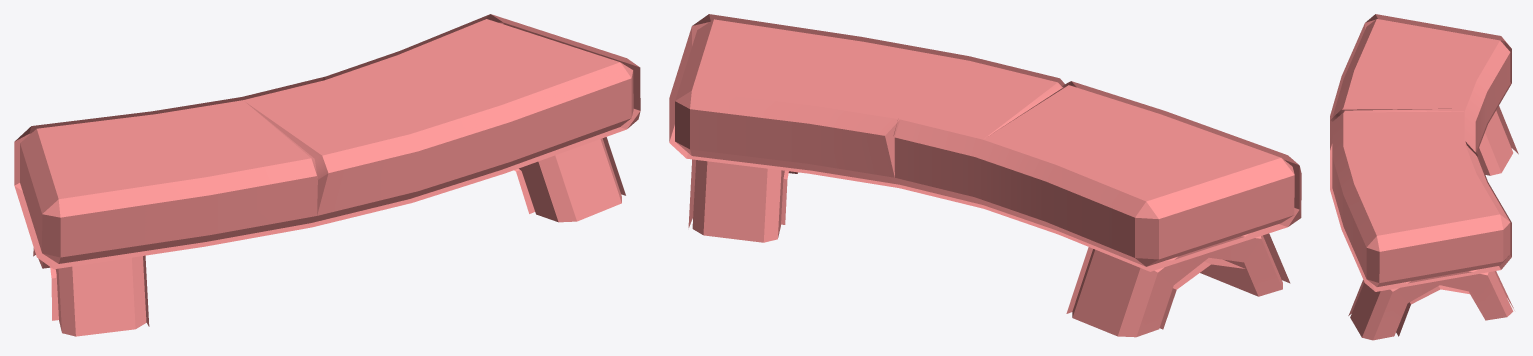
File: entity436898.gltf
3 views of the same model, side by side, from view 1: azimuth 30°, elevation 25°; view 2: azimuth 150°, elevation 25°; view 3: azimuth 270°, elevation 25° (orthographic). The views are drawn at different scales.
Visible parts, largest first — view 1: node_mesh_bank_01; view 2: node_mesh_bank_01; view 3: node_mesh_bank_01.
Boxes of the visible parts, x1=… form: node_mesh_bank_01: x1=14, y1=14, x2=640, y2=336; node_mesh_bank_01: x1=669, y1=14, x2=1301, y2=337; node_mesh_bank_01: x1=1330, y1=14, x2=1518, y2=340.
Size of the model in its own units: 3.7 by 0.8056 by 1.26.
